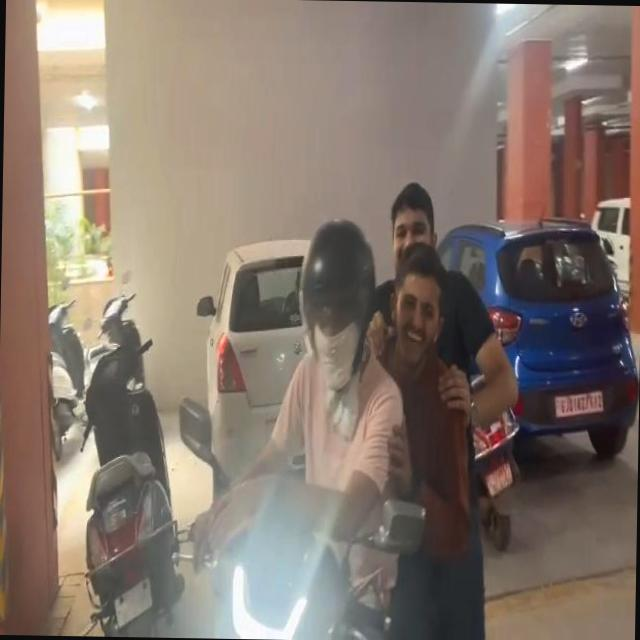motorcycle: (156, 395, 521, 640)
person: (380, 180, 524, 571), (276, 210, 413, 582), (364, 252, 495, 584)
rider_region: (169, 171, 516, 640)
